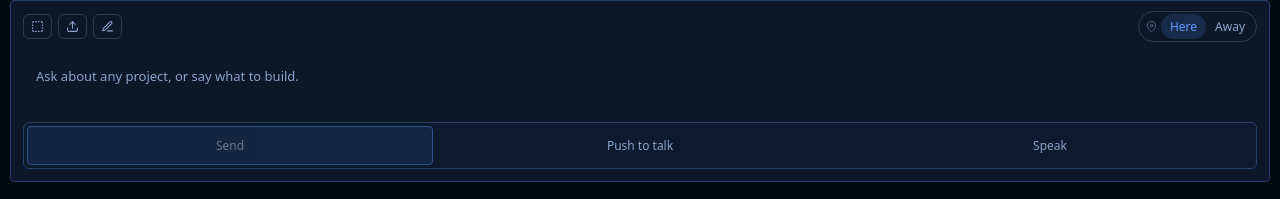
Scenario: ComposeBox — a completed mention is a PILL in the composer, not plain text › the pill disappears when Backspace takes the mention
The image size is (1280, 199).
Type "@Kraken Auth " into the text box named "Message" at (640, 85), box [23,56,1257,114]
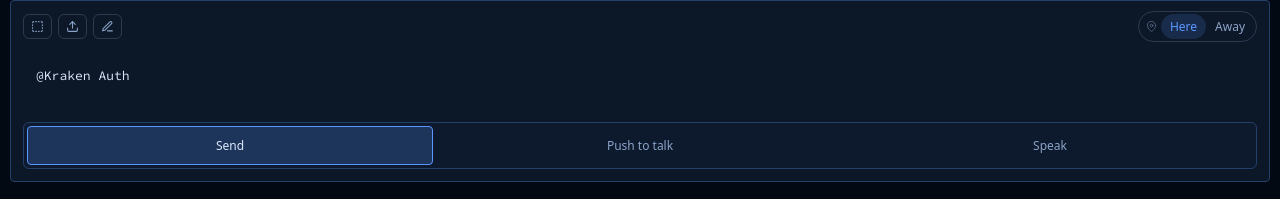
Expected: the number of elements with test id "concierge-compose-mention-pill" is 1, [36,67,130,84]
Press Backspace in the text box named "Message", box [23,56,1257,114]
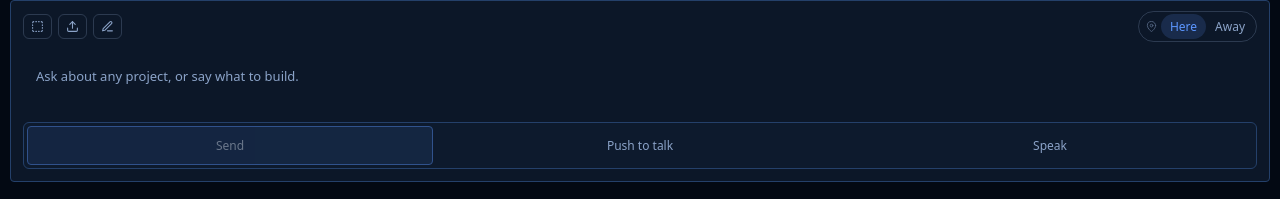
Expected: the text box named "Message" is empty, [23,56,1257,114]
Expected: no elements with test id "concierge-compose-mention-pill" are shown
